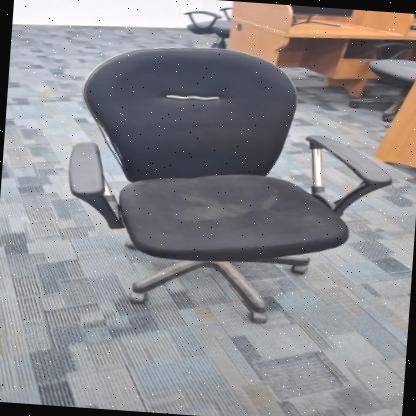chair: (49, 28, 408, 339)
